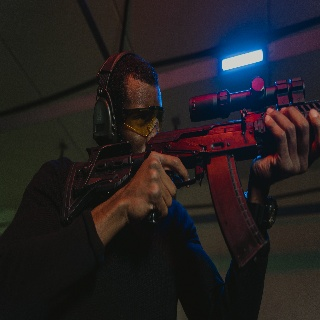rifle: (57, 75, 320, 273)
